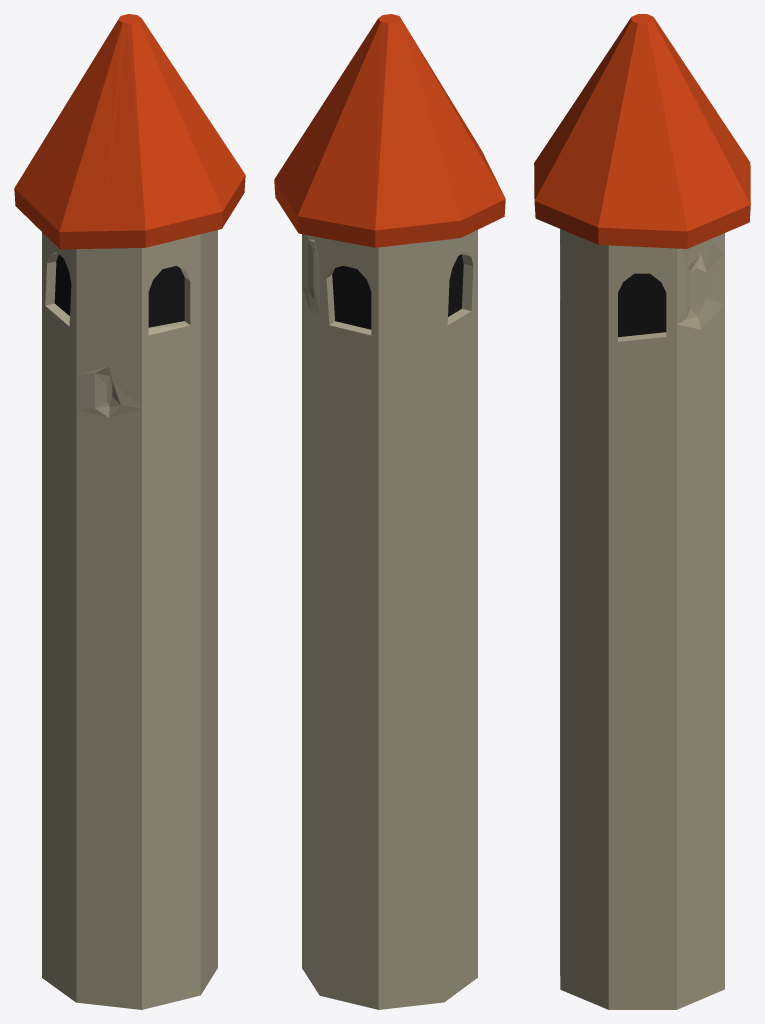
Rendered from Tower_big.fbx.
3 views of the same model, side by side, from view 1: azimuth 30°, elevation 25°; view 2: azimuth 150°, elevation 25°; view 3: azimuth 270°, elevation 25° (orthographic).
Visible parts, largest first — view 1: Tower_big; view 2: Tower_big; view 3: Tower_big.
Part boxes in pixels (x1,y1,x2,y2): Tower_big: (14, 14, 245, 1009); Tower_big: (274, 14, 505, 1009); Tower_big: (534, 14, 750, 1009).
Bounding box in the file's own units: 2.11 × 10.29 × 2.11.
